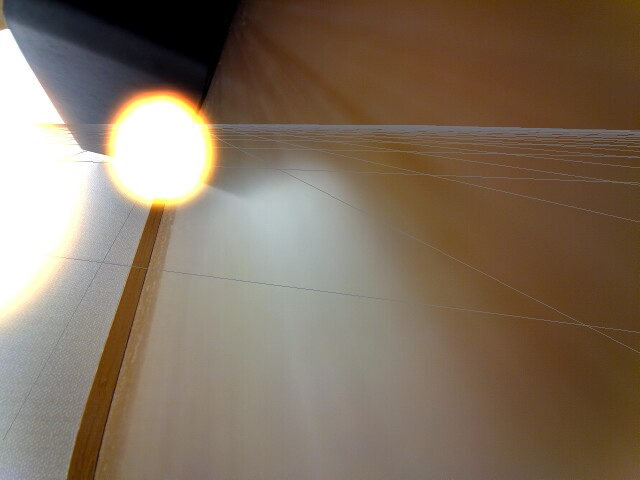firebig: (0, 75, 85, 324)
